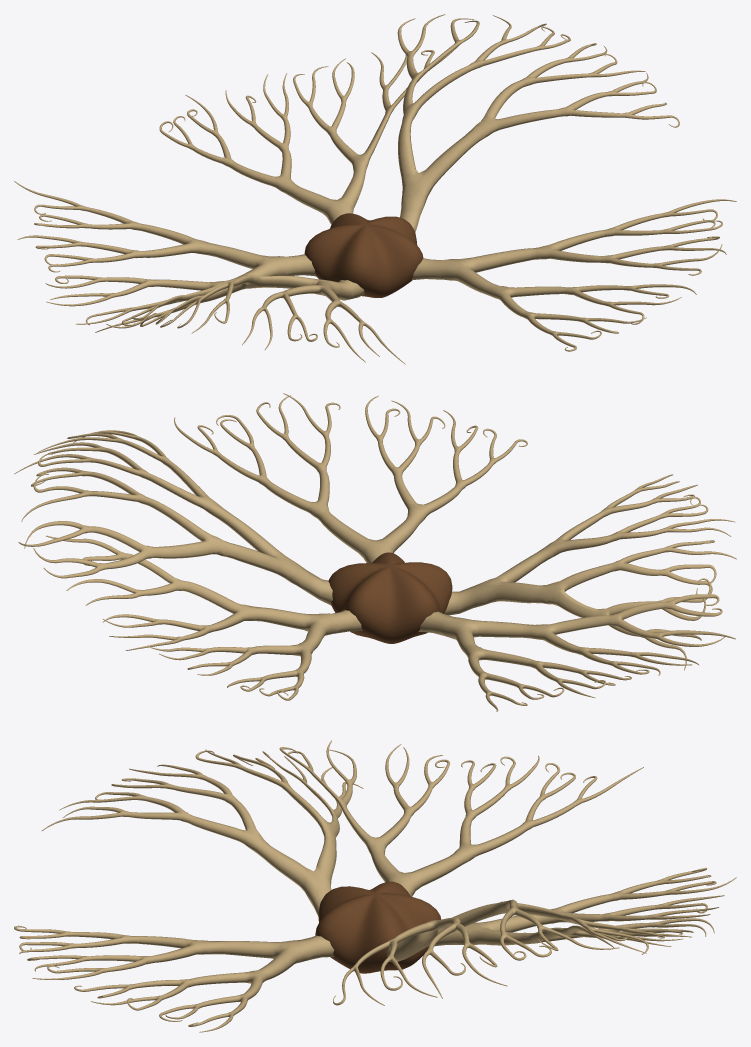
File: NEW695_BasketStar_LOD0.fbx
3 views of the same model, one above another, from view 1: azimuth 30°, elevation 25°; view 2: azimuth 150°, elevation 25°; view 3: azimuth 270°, elevation 25° (orthographic). The views are drawn at different scales.
Visible parts, largest first — view 1: Basket_star_connected_five_primary_arms, Volumetric_central_disc_with_five_radial_shoulders; view 2: Basket_star_connected_five_primary_arms, Volumetric_central_disc_with_five_radial_shoulders; view 3: Basket_star_connected_five_primary_arms, Volumetric_central_disc_with_five_radial_shoulders.
Boxes of the visible parts, <box> form: Basket_star_connected_five_primary_arms: <box>14,14,736,364</box>; Volumetric_central_disc_with_five_radial_shoulders: <box>304,213,423,297</box>; Basket_star_connected_five_primary_arms: <box>14,393,736,711</box>; Volumetric_central_disc_with_five_radial_shoulders: <box>328,552,452,643</box>; Basket_star_connected_five_primary_arms: <box>14,740,736,1032</box>; Volumetric_central_disc_with_five_radial_shoulders: <box>315,881,441,973</box>.
Bounding box in the file's own units: 0.3 × 0.0679 × 0.2813.
Materials: 1 (1 with a texture image).
